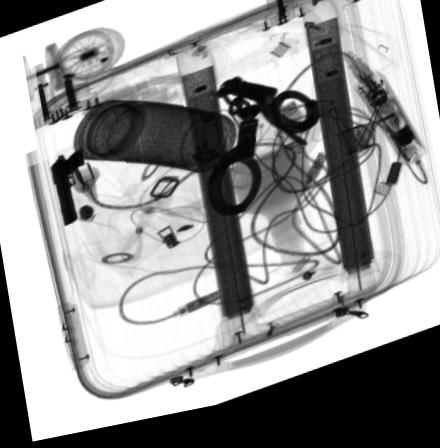Gun: (49, 149, 87, 230)
HandCuffs: (207, 83, 322, 224)
